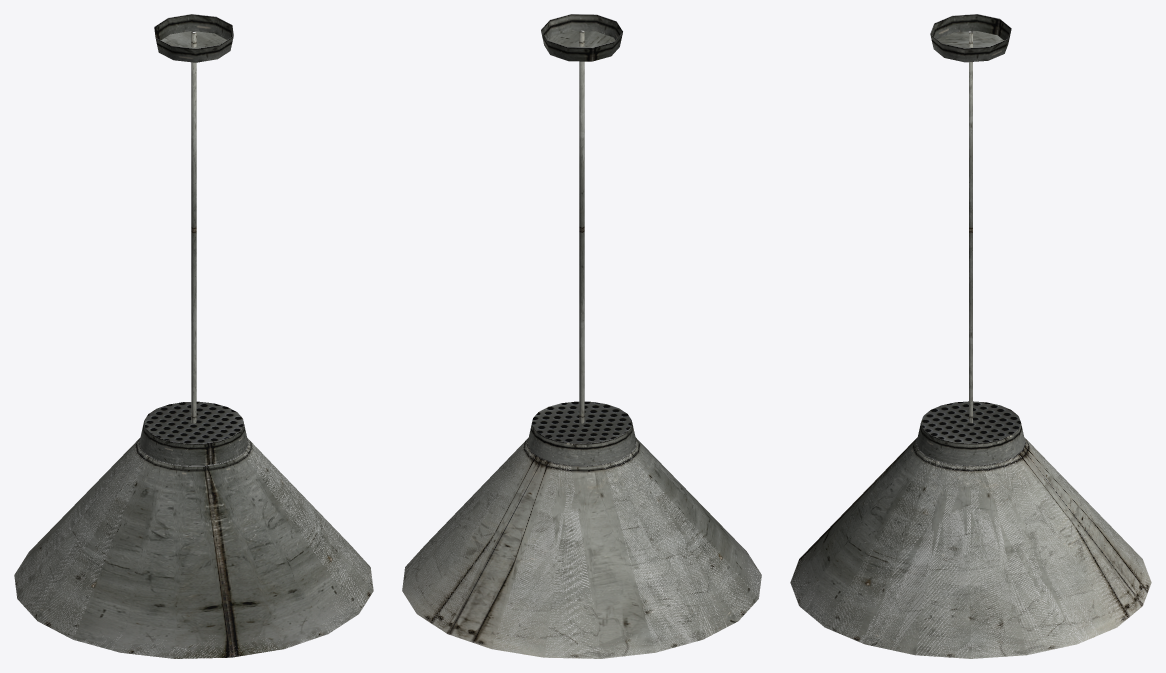
Rendered from lamp_A.fbx.
The picture shows the model from 3 angles, left to right: view 1: azimuth 30°, elevation 25°; view 2: azimuth 150°, elevation 25°; view 3: azimuth 270°, elevation 25°; orthographic projection.
Visible parts, largest first — view 1: lamp_A; view 2: lamp_A; view 3: lamp_A.
Boxes of the visible parts, x1,y1,x2,y2 form: lamp_A: (14,14,373,658); lamp_A: (402,14,761,658); lamp_A: (790,14,1151,658).
Size of what is drawn, in the model's own units: 79.36 by 134 by 79.36.
